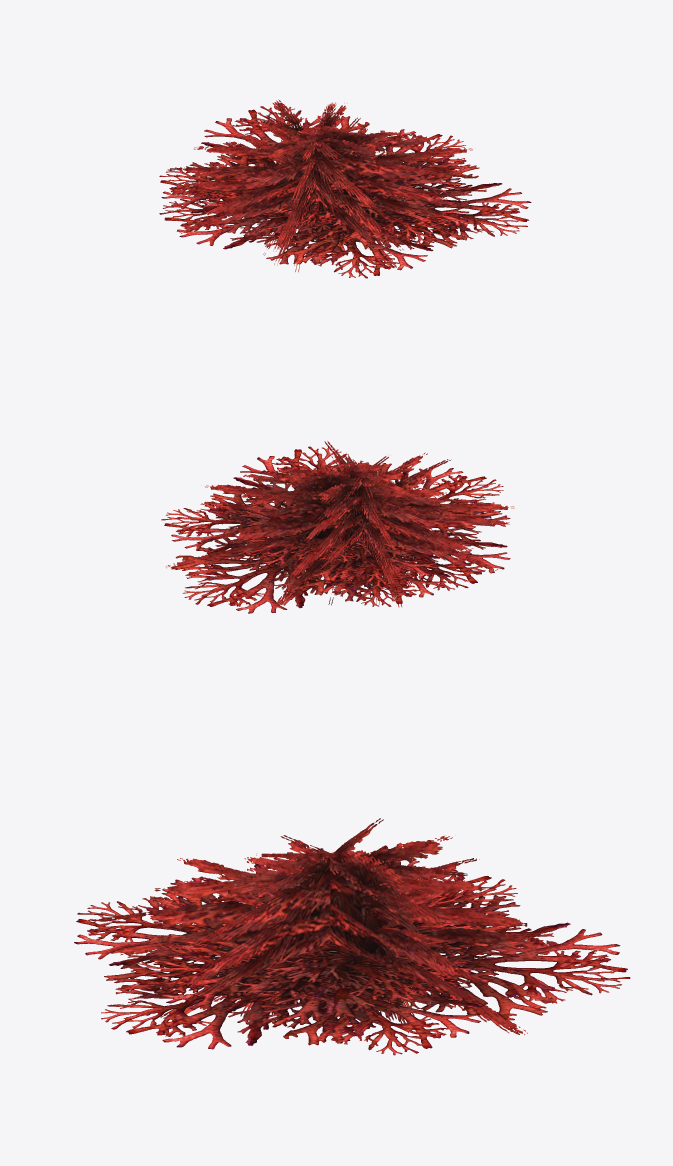
The model's file is Coral-Medium_LOD2.fbx.
3 views of the same model, one above another, from view 1: azimuth 30°, elevation 25°; view 2: azimuth 150°, elevation 25°; view 3: azimuth 270°, elevation 25° (orthographic). The views are drawn at different scales.
Visible parts, largest first — view 1: Coral-Medium_LOD2; view 2: Coral-Medium_LOD2; view 3: Coral-Medium_LOD2.
Boxes of the visible parts, bbox=[...] form: Coral-Medium_LOD2: bbox=[159, 99, 531, 278]; Coral-Medium_LOD2: bbox=[161, 441, 514, 613]; Coral-Medium_LOD2: bbox=[74, 818, 630, 1055].
Size of the model in its own units: 0.8035 by 0.2307 by 0.7902.
